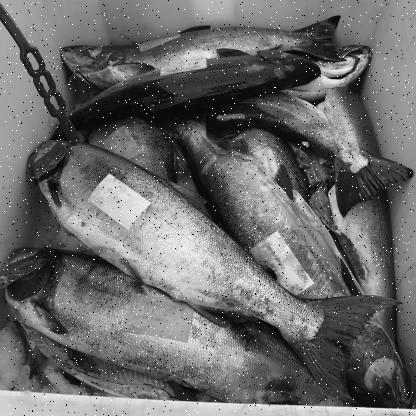fish: (26, 130, 400, 404), (167, 110, 409, 406), (1, 247, 373, 409), (47, 49, 322, 143), (61, 12, 345, 95)
